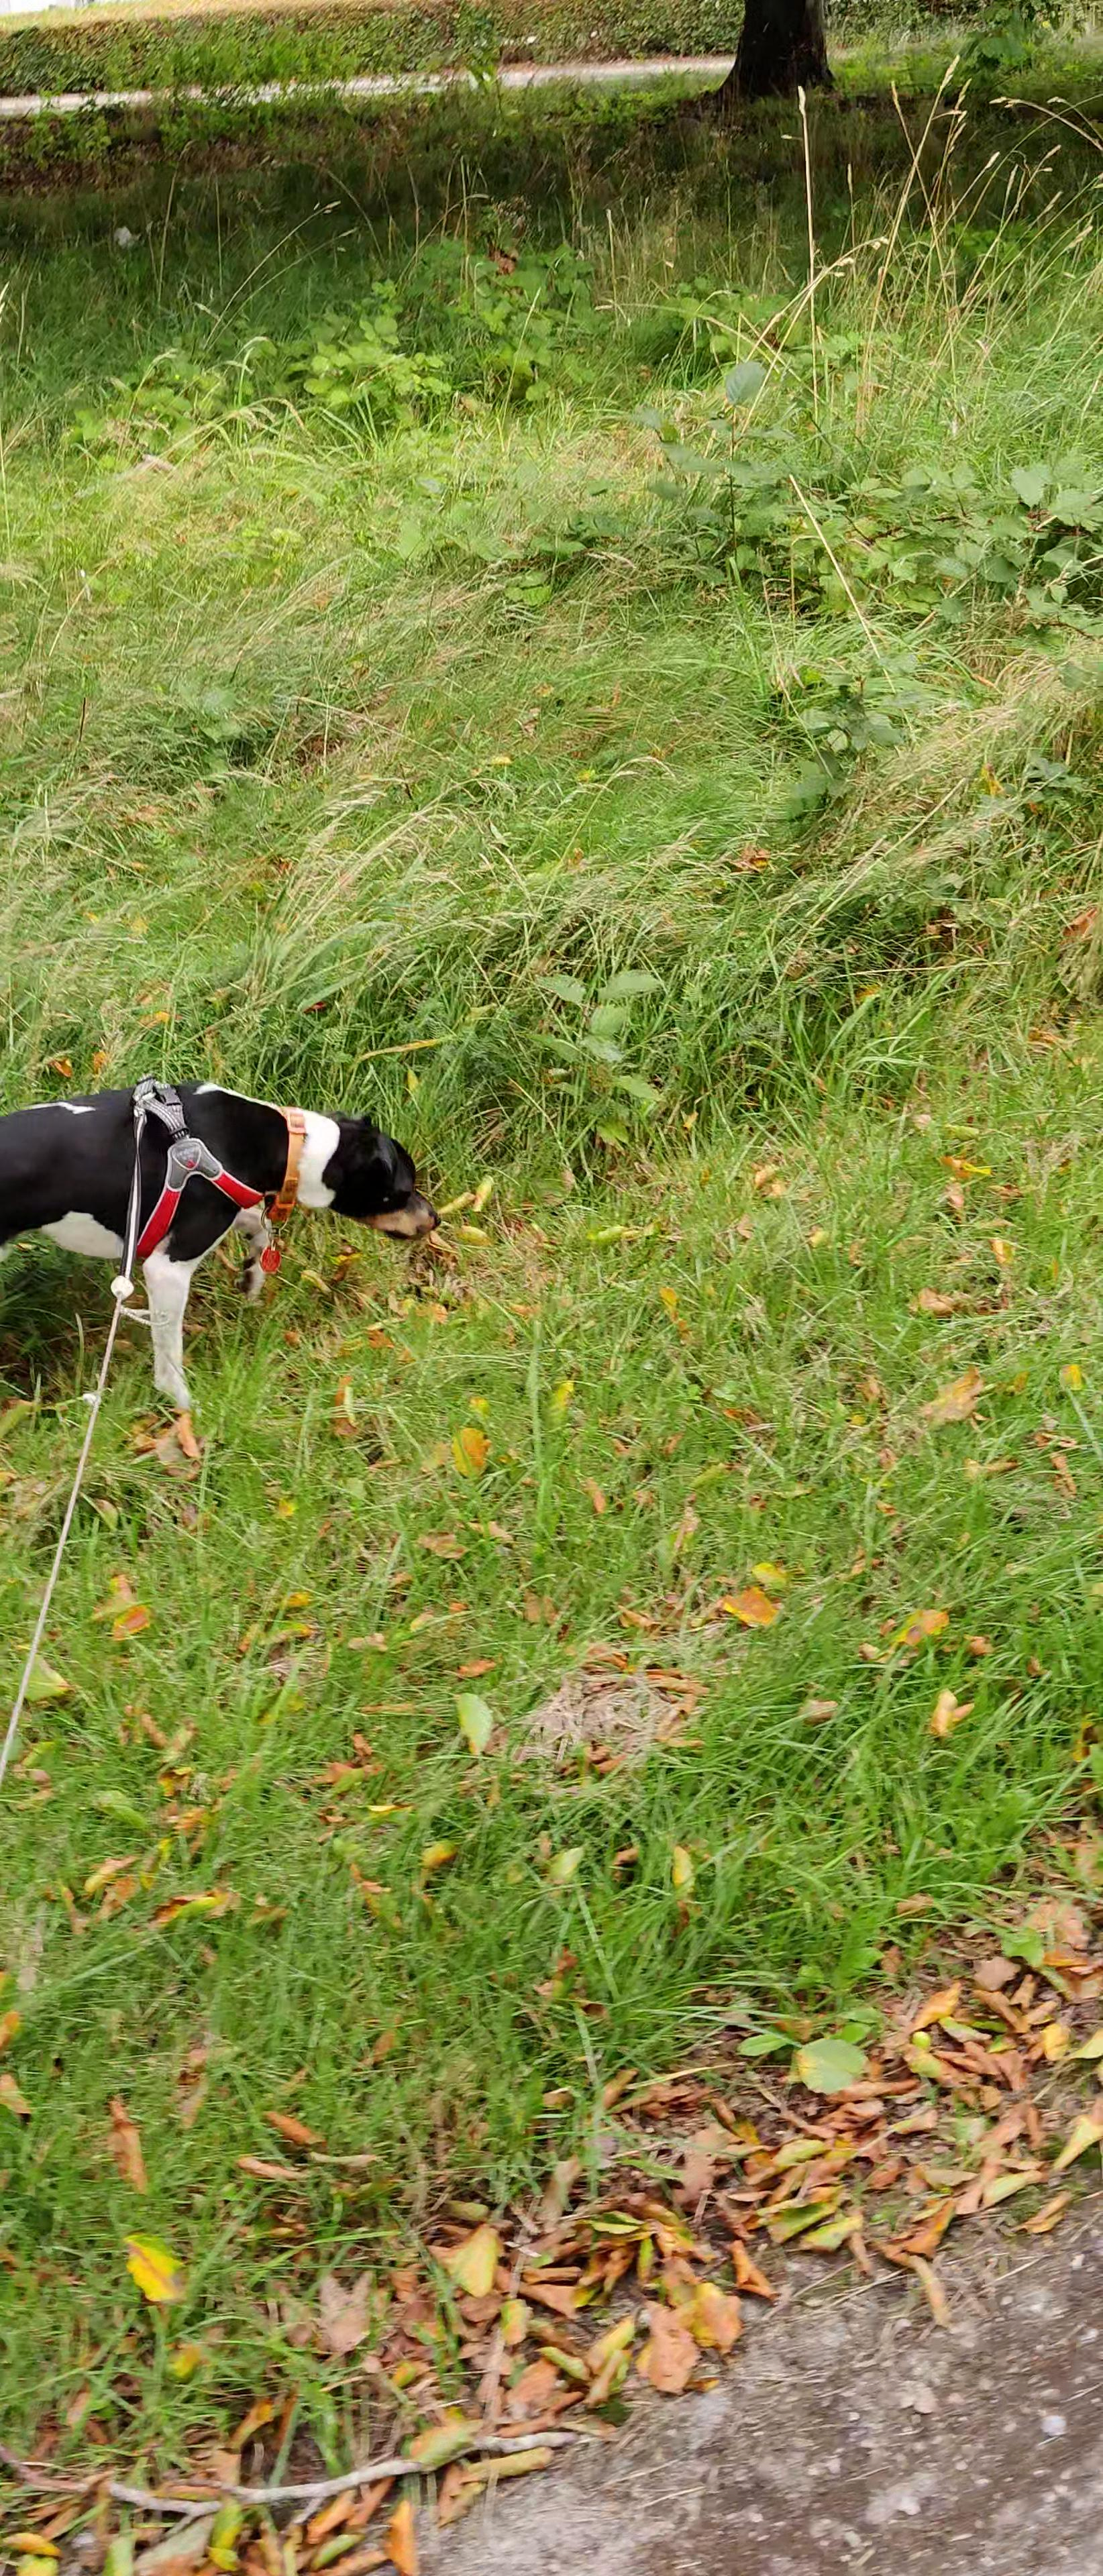Dog: (0, 1053, 457, 1424)
